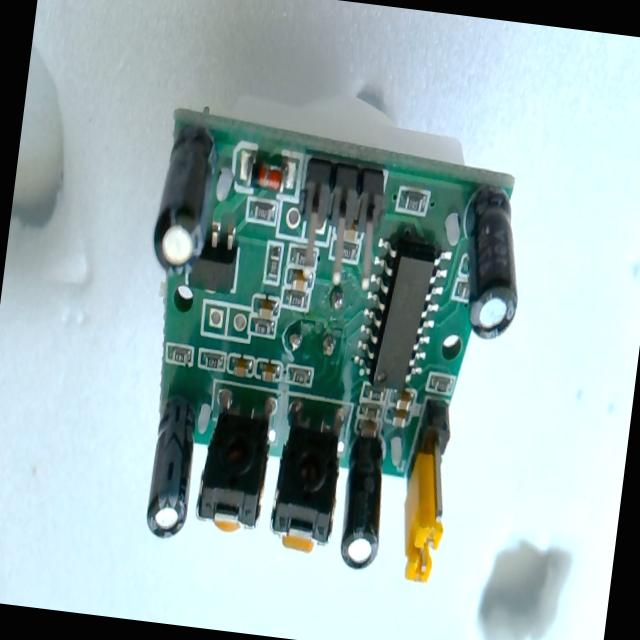Electrolytic capacitor: (452, 182, 532, 342), (148, 120, 221, 278), (143, 393, 201, 540), (334, 426, 392, 572)
IC: (356, 233, 448, 389)
pinheader: (289, 157, 389, 290)
